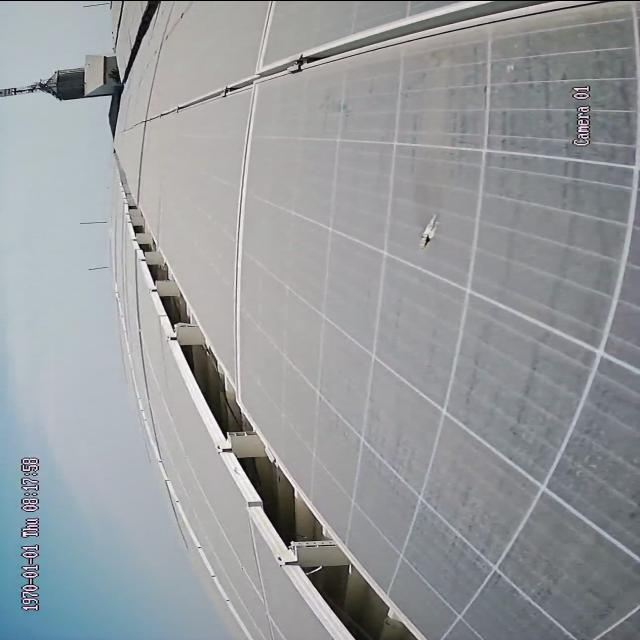interior panel: (148, 1, 594, 122), (226, 91, 266, 372), (247, 2, 283, 65)
outher panel: (114, 168, 427, 637), (123, 2, 165, 73)
